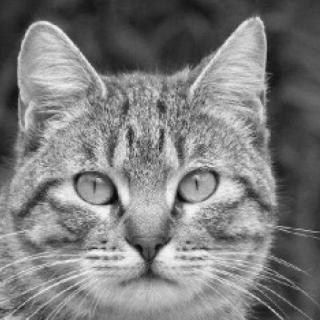cat: (16, 18, 277, 312)
nose: (121, 216, 173, 267)
